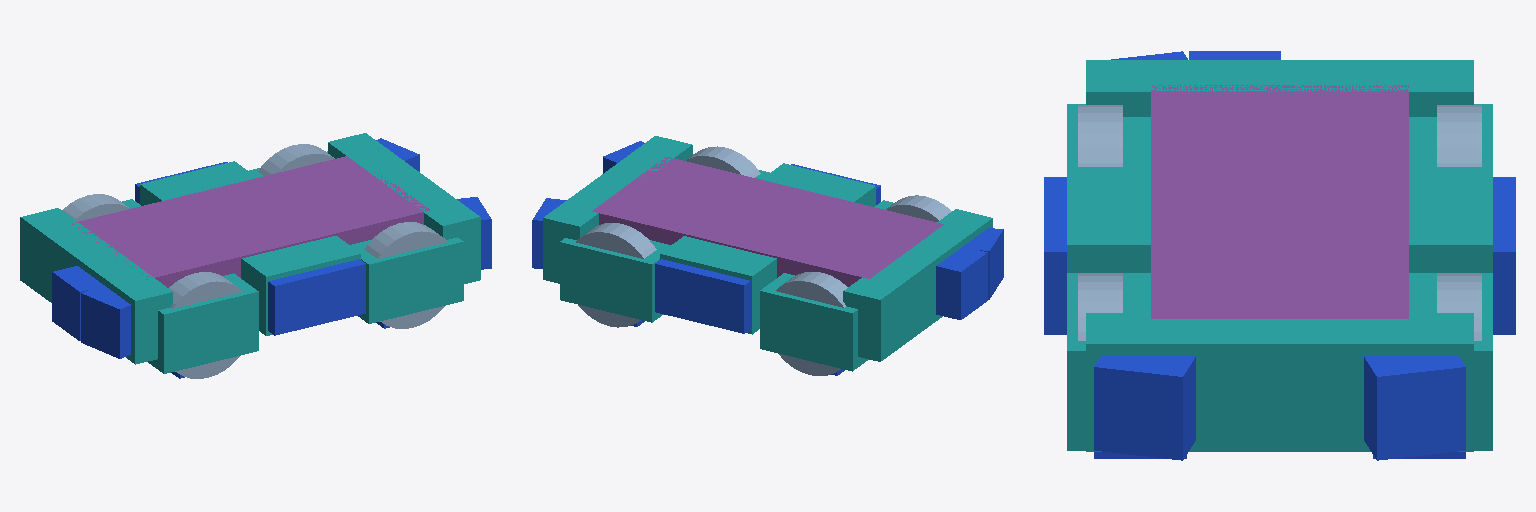
--- Render facts (derived) ---
The picture shows the robot from 3 angles, left to right: view 1: azimuth 30°, elevation 25°; view 2: azimuth 150°, elevation 25°; view 3: azimuth 270°, elevation 25°; orthographic projection.
Model LCAMP_Robot with 53 links and 52 joints (4 continuous, 48 fixed), rooted at center, posed every joint at zero.
Links seen in each view (by area): view 1: center, Sensorbox_rear, drive_rr, drive_fr, Sensorbox_front, Controller, l_Sensorbox_rear_Lidar_16, l_Controller_Lidar_16, l_Controller_LED_Light_32, jdrive_fr, Sensorbox_center, jdrive_rr (+4 smaller); view 2: center, Sensorbox_rear, drive_rl, drive_fl, Sensorbox_front, Sensorbox_center, l_Sensorbox_rear_LED_Light_32, l_Sensorbox_center_Lidar_32, l_Sensorbox_center_LED_Light_16, jdrive_fl, Controller, jdrive_rl (+4 smaller); view 3: center, Sensorbox_front, Sensorbox_rear, l_Sensorbox_front_LED_Light_16, l_Sensorbox_front_LED_Light_64, Sensorbox_center, Controller, drive_fl, drive_fr, l_Sensorbox_center_LED_Light_16, l_Controller_LED_Light_32, jdrive_rl (+8 smaller).
Boxes of the visible links, box(x1,y1,x2,y2) form: center: box(72, 156, 429, 287); Sensorbox_rear: box(20, 208, 172, 364); drive_rr: box(148, 273, 258, 373); drive_fr: box(350, 237, 463, 323); Sensorbox_front: box(328, 133, 480, 283); Controller: box(241, 236, 360, 335); l_Sensorbox_rear_Lidar_16: box(81, 285, 130, 358); l_Controller_Lidar_16: box(268, 270, 321, 335); l_Controller_LED_Light_32: box(316, 259, 365, 324); jdrive_fr: box(364, 222, 447, 328); Sensorbox_center: box(140, 161, 256, 205); jdrive_rr: box(169, 272, 242, 378); center: box(592, 157, 943, 286); Sensorbox_rear: box(843, 209, 992, 361); drive_rl: box(760, 273, 868, 371); drive_fl: box(560, 238, 670, 322); Sensorbox_front: box(543, 136, 692, 283); Sensorbox_center: box(660, 236, 776, 334); l_Sensorbox_rear_LED_Light_32: box(936, 247, 987, 319); l_Sensorbox_center_Lidar_32: box(698, 270, 750, 333); l_Sensorbox_center_LED_Light_16: box(655, 259, 705, 322); jdrive_fl: box(576, 223, 656, 327); Controller: box(761, 163, 875, 206); jdrive_rl: box(776, 272, 847, 375); center: box(1151, 85, 1408, 318); Sensorbox_front: box(1086, 313, 1473, 451); Sensorbox_rear: box(1086, 60, 1473, 116); l_Sensorbox_front_LED_Light_16: box(1364, 356, 1465, 460); l_Sensorbox_front_LED_Light_64: box(1094, 356, 1195, 460); Sensorbox_center: box(1409, 167, 1492, 272); Controller: box(1067, 167, 1150, 272); drive_fl: box(1409, 273, 1492, 450); drive_fr: box(1067, 273, 1150, 450); l_Sensorbox_center_LED_Light_16: box(1493, 213, 1515, 334); l_Controller_LED_Light_32: box(1044, 213, 1066, 334); jdrive_rl: box(1437, 105, 1481, 166).
Bounding box of the posed robot: 0.4176 × 0.2552 × 0.096 m (x, y, z).
Geometry: only primitive shapes (box / cylinder / sphere) drawn; not drawn: 33 mesh visuals (reference in a form the renderer does not follow).

robot.urdf — LCAMP_Robot:
?<?xml version="1.0" encoding="utf-8"?>
<robot name="LCAMP_Robot">
  <link name="center">
    <inertial>
      <origin rpy="0 0 0" xyz="0 0 0" />
      <mass value="50" />
      <inertia ixx="9.873333333333334E-05" ixy="0" ixz="0" iyy="0.00039206666666666664" iyz="0" izz="0.0004566666666666667" />
    </inertial>
    <visual>
      <geometry>
        <box size="0.3 0.14 0.064" />
      </geometry>
      <material name="center_material">
        <color rgba="0.6 0.4 0.7 0.5" />
      </material>
    </visual>
    <collision>
      <geometry>
        <box size="0.3 0.14 0.064" />
      </geometry>
    </collision>
  </link>
  <link name="drive_rl">
    <inertial>
      <origin rpy="0 0 0" xyz="0 0 0" />
      <mass value="5" />
      <inertia ixx="4.166666666666667E-06" ixy="0" ixz="0" iyy="5.666666666666668E-06" iyz="0" izz="6.8333333333333345E-06" />
    </inertial>
    <visual>
      <geometry>
        <box size="0.1 0.08 0.06" />
      </geometry>
      <material name="drive_rl_material">
        <color rgba="0.2 0.7 0.7 0.2" />
      </material>
    </visual>
    <collision>
      <geometry>
        <box size="0.1 0.08 0.06" />
      </geometry>
    </collision>
  </link>
  <link name="l_drive_rl_Stepper-Drive_0">
    <inertial>
      <origin rpy="0 0 0" xyz="0 0 0" />
      <mass value="1" />
      <inertia ixx="4.166666666666667E-07" ixy="0" ixz="0" iyy="4.166666666666667E-07" iyz="0" izz="4.166666666666667E-07" />
    </inertial>
    <visual>
      <geometry>
        <box size="0.05 0.05 0.05" />
      </geometry>
      <material name="l_drive_rl_Stepper-Drive_0_material">
        <color rgba="0.2 0.4 0.9 0.2" />
      </material>
    </visual>
    <collision>
      <geometry>
        <box size="0.05 0.05 0.05" />
      </geometry>
    </collision>
  </link>
  <link name="drive_rl_Stepper-Drive_0">
    <inertial>
      <origin rpy="0 0 0" xyz="0 0 0" />
      <mass value="100" />
      <inertia ixx="4.7466666666666664E-05" ixy="0" ixz="0" iyy="0.0004016333333333333" iyz="0" izz="0.00038083333333333323" />
    </inertial>
    <visual name="HolderBase">
      <origin rpy="0 0 0" xyz="0 0 0" />
      <geometry>
        <mesh filename="[local-path]\source\repos\LCAMP\Daten\DHBW CAD-Data\DriveSystem\STL-Step-Dateien\stepper_Holder_64.STL" scale="0.001 0.001 0.001" />
      </geometry>
      <material name="HolderBase_material">
        <color rgba="0.5019607843137255 0.5019607843137255 0.5019607843137255 1" />
      </material>
    </visual>
    <visual name="Stepper Motor NEMA17">
      <origin rpy="0 0 0" xyz="0 0 0" />
      <geometry>
        <box size="0.01 0.01 0.01" />
      </geometry>
      <material name="Stepper Motor NEMA17_material">
        <color rgba="0.5019607843137255 0.5019607843137255 0.5019607843137255 0.39215686274509803" />
      </material>
    </visual>
    <visual name="Motor Controller">
      <origin rpy="0 0 0" xyz="0 0 0" />
      <geometry>
        <box size="0.01 0.01 0.01" />
      </geometry>
      <material name="Motor Controller_material">
        <color rgba="0.7372549019607844 0.5019607843137255 0.5019607843137255 0.39215686274509803" />
      </material>
    </visual>
    <collision>
      <geometry>
        <cylinder length="1" radius="1" />
      </geometry>
    </collision>
  </link>
  <link name="drive_rl_Regular-Wheel">
    <inertial>
      <origin rpy="0 0 0" xyz="0 0 0" />
      <mass value="100" />
      <inertia ixx="4.7466666666666664E-05" ixy="0" ixz="0" iyy="0.0004016333333333333" iyz="0" izz="0.00038083333333333323" />
    </inertial>
    <visual name="Wheel-Hub">
      <origin rpy="0 0 0" xyz="0 0 0" />
      <geometry>
        <mesh filename="[local-path]\source\repos\LCAMP\Daten\DHBW CAD-Data\Wheels\STL-Step-Dateien\Wheel_Hub.STL" scale="0.001 0.001 0.001" />
      </geometry>
      <material name="drive_rl_Regular-Wheel_material">
        <color rgba="1 1 1 0.7" />
      </material>
    </visual>
    <visual name="rim-inner">
      <origin rpy="0 0 0" xyz="0 0 0.003" />
      <geometry>
        <mesh filename="[local-path]\source\repos\LCAMP\Daten\DHBW CAD-Data\RegularWheel\Stl-Step-Dateien\Regular_Wheel_Star_30_84.STL" scale="0.001 0.001 0.001" />
      </geometry>
      <material name="drive_rl_Regular-Wheel_material">
        <color rgba="1 1 1 0.7" />
      </material>
    </visual>
    <visual name="rim-outer">
      <origin rpy="0 0 0" xyz="0 0 0.026000000000000002" />
      <geometry>
        <mesh filename="[local-path]\source\repos\LCAMP\Daten\DHBW CAD-Data\RegularWheel\Stl-Step-Dateien\Regular_Wheel_Star_24_84.STL" scale="0.001 0.001 0.001" />
      </geometry>
      <material name="drive_rl_Regular-Wheel_material">
        <color rgba="1 1 1 0.7" />
      </material>
    </visual>
    <visual name="Wheel-Hub-Cup">
      <origin rpy="0 0 0" xyz="0 0 0.029" />
      <geometry>
        <mesh filename="[local-path]\source\repos\LCAMP\Daten\DHBW CAD-Data\Wheels\STL-Step-Dateien\Hub_Cup_8.STL" scale="0.001 0.001 0.001" />
      </geometry>
      <material name="drive_rl_Regular-Wheel_material">
        <color rgba="1 1 1 0.7" />
      </material>
    </visual>
    <visual name="Tire">
      <origin rpy="0 0 0" xyz="0 0 0.003" />
      <geometry>
        <mesh filename="[local-path]\source\repos\LCAMP\Daten\DHBW CAD-Data\RegularWheel\Stl-Step-Dateien\Tire_96.STL" scale="0.001 0.001 0.001" />
      </geometry>
      <material name="drive_rl_Regular-Wheel_material">
        <color rgba="0 0 0 1" />
      </material>
    </visual>
    <collision>
      <geometry>
        <cylinder length="1" radius="1" />
      </geometry>
    </collision>
  </link>
  <link name="jdrive_rl">
    <inertial>
      <origin rpy="0 0 0" xyz="0 0 0" />
      <mass value="50" />
      <inertia ixx="3.12E-05" ixy="0" ixz="0" iyy="3.12E-05" iyz="0" izz="57.60000000000001" />
    </inertial>
    <visual>
      <geometry>
        <cylinder length="0.024" radius="0.048" />
      </geometry>
      <material name="jdrive_rl_material">
        <color rgba="0.6 0.7 0.8 0.3" />
      </material>
    </visual>
    <collision>
      <geometry>
        <cylinder length="0.024" radius="0.048" />
      </geometry>
    </collision>
  </link>
  <link name="drive_rr">
    <inertial>
      <origin rpy="0 0 0" xyz="0 0 0" />
      <mass value="5" />
      <inertia ixx="4.166666666666667E-06" ixy="0" ixz="0" iyy="5.666666666666668E-06" iyz="0" izz="6.8333333333333345E-06" />
    </inertial>
    <visual>
      <geometry>
        <box size="0.1 0.08 0.06" />
      </geometry>
      <material name="drive_rr_material">
        <color rgba="0.2 0.7 0.7 0.2" />
      </material>
    </visual>
    <collision>
      <geometry>
        <box size="0.1 0.08 0.06" />
      </geometry>
    </collision>
  </link>
  <link name="l_drive_rr_Stepper-Drive_1">
    <inertial>
      <origin rpy="0 0 0" xyz="0 0 0" />
      <mass value="1" />
      <inertia ixx="4.166666666666667E-07" ixy="0" ixz="0" iyy="4.166666666666667E-07" iyz="0" izz="4.166666666666667E-07" />
    </inertial>
    <visual>
      <geometry>
        <box size="0.05 0.05 0.05" />
      </geometry>
      <material name="l_drive_rr_Stepper-Drive_1_material">
        <color rgba="0.2 0.4 0.9 0.2" />
      </material>
    </visual>
    <collision>
      <geometry>
        <box size="0.05 0.05 0.05" />
      </geometry>
    </collision>
  </link>
  <link name="drive_rr_Stepper-Drive_1">
    <inertial>
      <origin rpy="0 0 0" xyz="0 0 0" />
      <mass value="100" />
      <inertia ixx="4.7466666666666664E-05" ixy="0" ixz="0" iyy="0.0004016333333333333" iyz="0" izz="0.00038083333333333323" />
    </inertial>
    <visual name="HolderBase">
      <origin rpy="0 0 0" xyz="0 0 0" />
      <geometry>
        <mesh filename="[local-path]\source\repos\LCAMP\Daten\DHBW CAD-Data\DriveSystem\STL-Step-Dateien\stepper_Holder_64.STL" scale="0.001 0.001 0.001" />
      </geometry>
      <material name="HolderBase_material">
        <color rgba="0.5019607843137255 0.5019607843137255 0.5019607843137255 1" />
      </material>
    </visual>
    <visual name="Stepper Motor NEMA17">
      <origin rpy="0 0 0" xyz="0 0 0" />
      <geometry>
        <box size="0.01 0.01 0.01" />
      </geometry>
      <material name="Stepper Motor NEMA17_material">
        <color rgba="0.5019607843137255 0.5019607843137255 0.5019607843137255 0.39215686274509803" />
      </material>
    </visual>
    <visual name="Motor Controller">
      <origin rpy="0 0 0" xyz="0 0 0" />
      <geometry>
        <box size="0.01 0.01 0.01" />
      </geometry>
      <material name="Motor Controller_material">
        <color rgba="0.7372549019607844 0.5019607843137255 0.5019607843137255 0.39215686274509803" />
      </material>
    </visual>
    <collision>
      <geometry>
        <cylinder length="1" radius="1" />
      </geometry>
    </collision>
  </link>
  <link name="drive_rr_Regular-Wheel">
    <inertial>
      <origin rpy="0 0 0" xyz="0 0 0" />
      <mass value="100" />
      <inertia ixx="4.7466666666666664E-05" ixy="0" ixz="0" iyy="0.0004016333333333333" iyz="0" izz="0.00038083333333333323" />
    </inertial>
    <visual name="Wheel-Hub">
      <origin rpy="0 0 0" xyz="0 0 0" />
      <geometry>
        <mesh filename="[local-path]\source\repos\LCAMP\Daten\DHBW CAD-Data\Wheels\STL-Step-Dateien\Wheel_Hub.STL" scale="0.001 0.001 0.001" />
      </geometry>
      <material name="drive_rr_Regular-Wheel_material">
        <color rgba="1 1 1 0.7" />
      </material>
    </visual>
    <visual name="rim-inner">
      <origin rpy="0 0 0" xyz="0 0 0.003" />
      <geometry>
        <mesh filename="[local-path]\source\repos\LCAMP\Daten\DHBW CAD-Data\RegularWheel\Stl-Step-Dateien\Regular_Wheel_Star_30_84.STL" scale="0.001 0.001 0.001" />
      </geometry>
      <material name="drive_rr_Regular-Wheel_material">
        <color rgba="1 1 1 0.7" />
      </material>
    </visual>
    <visual name="rim-outer">
      <origin rpy="0 0 0" xyz="0 0 0.026000000000000002" />
      <geometry>
        <mesh filename="[local-path]\source\repos\LCAMP\Daten\DHBW CAD-Data\RegularWheel\Stl-Step-Dateien\Regular_Wheel_Star_24_84.STL" scale="0.001 0.001 0.001" />
      </geometry>
      <material name="drive_rr_Regular-Wheel_material">
        <color rgba="1 1 1 0.7" />
      </material>
    </visual>
    <visual name="Wheel-Hub-Cup">
      <origin rpy="0 0 0" xyz="0 0 0.029" />
      <geometry>
        <mesh filename="[local-path]\source\repos\LCAMP\Daten\DHBW CAD-Data\Wheels\STL-Step-Dateien\Hub_Cup_8.STL" scale="0.001 0.001 0.001" />
      </geometry>
      <material name="drive_rr_Regular-Wheel_material">
        <color rgba="1 1 1 0.7" />
      </material>
    </visual>
    <visual name="Tire">
      <origin rpy="0 0 0" xyz="0 0 0.003" />
      <geometry>
        <mesh filename="[local-path]\source\repos\LCAMP\Daten\DHBW CAD-Data\RegularWheel\Stl-Step-Dateien\Tire_96.STL" scale="0.001 0.001 0.001" />
      </geometry>
      <material name="drive_rr_Regular-Wheel_material">
        <color rgba="0 0 0 1" />
      </material>
    </visual>
    <collision>
      <geometry>
        <cylinder length="1" radius="1" />
      </geometry>
    </collision>
  </link>
  <link name="jdrive_rr">
    <inertial>
      <origin rpy="0 0 0" xyz="0 0 0" />
      <mass value="50" />
      <inertia ixx="3.12E-05" ixy="0" ixz="0" iyy="3.12E-05" iyz="0" izz="57.60000000000001" />
    </inertial>
    <visual>
      <geometry>
        <cylinder length="0.024" radius="0.048" />
      </geometry>
      <material name="jdrive_rr_material">
        <color rgba="0.6 0.7 0.8 0.3" />
      </material>
    </visual>
    <collision>
      <geometry>
        <cylinder length="0.024" radius="0.048" />
      </geometry>
    </collision>
  </link>
  <link name="drive_fl">
    <inertial>
      <origin rpy="0 0 0" xyz="0 0 0" />
      <mass value="5" />
      <inertia ixx="4.166666666666667E-06" ixy="0" ixz="0" iyy="5.666666666666668E-06" iyz="0" izz="6.8333333333333345E-06" />
    </inertial>
    <visual>
      <geometry>
        <box size="0.1 0.08 0.06" />
      </geometry>
      <material name="drive_fl_material">
        <color rgba="0.2 0.7 0.7 0.2" />
      </material>
    </visual>
    <collision>
      <geometry>
        <box size="0.1 0.08 0.06" />
      </geometry>
    </collision>
  </link>
  <link name="l_drive_fl_Stepper-Drive_2">
    <inertial>
      <origin rpy="0 0 0" xyz="0 0 0" />
      <mass value="1" />
      <inertia ixx="4.166666666666667E-07" ixy="0" ixz="0" iyy="4.166666666666667E-07" iyz="0" izz="4.166666666666667E-07" />
    </inertial>
    <visual>
      <geometry>
        <box size="0.05 0.05 0.05" />
      </geometry>
      <material name="l_drive_fl_Stepper-Drive_2_material">
        <color rgba="0.2 0.4 0.9 0.2" />
      </material>
    </visual>
    <collision>
      <geometry>
        <box size="0.05 0.05 0.05" />
      </geometry>
    </collision>
  </link>
  <link name="drive_fl_Stepper-Drive_2">
    <inertial>
      <origin rpy="0 0 0" xyz="0 0 0" />
      <mass value="100" />
      <inertia ixx="4.7466666666666664E-05" ixy="0" ixz="0" iyy="0.0004016333333333333" iyz="0" izz="0.00038083333333333323" />
    </inertial>
    <visual name="HolderBase">
      <origin rpy="0 0 0" xyz="0 0 0" />
      <geometry>
        <mesh filename="[local-path]\source\repos\LCAMP\Daten\DHBW CAD-Data\DriveSystem\STL-Step-Dateien\stepper_Holder_64.STL" scale="0.001 0.001 0.001" />
      </geometry>
      <material name="HolderBase_material">
        <color rgba="0.5019607843137255 0.5019607843137255 0.5019607843137255 1" />
      </material>
    </visual>
    <visual name="Stepper Motor NEMA17">
      <origin rpy="0 0 0" xyz="0 0 0" />
      <geometry>
        <box size="0.01 0.01 0.01" />
      </geometry>
      <material name="Stepper Motor NEMA17_material">
        <color rgba="0.5019607843137255 0.5019607843137255 0.5019607843137255 0.39215686274509803" />
      </material>
    </visual>
    <visual name="Motor Controller">
      <origin rpy="0 0 0" xyz="0 0 0" />
      <geometry>
        <box size="0.01 0.01 0.01" />
      </geometry>
      <material name="Motor Controller_material">
        <color rgba="0.7372549019607844 0.5019607843137255 0.5019607843137255 0.39215686274509803" />
      </material>
    </visual>
    <collision>
      <geometry>
        <cylinder length="1" radius="1" />
      </geometry>
    </collision>
  </link>
  <link name="drive_fl_Regular-Wheel">
    <inertial>
      <origin rpy="0 0 0" xyz="0 0 0" />
      <mass value="100" />
      <inertia ixx="4.7466666666666664E-05" ixy="0" ixz="0" iyy="0.0004016333333333333" iyz="0" izz="0.00038083333333333323" />
    </inertial>
    <visual name="Wheel-Hub">
      <origin rpy="0 0 0" xyz="0 0 0" />
      <geometry>
        <mesh filename="[local-path]\source\repos\LCAMP\Daten\DHBW CAD-Data\Wheels\STL-Step-Dateien\Wheel_Hub.STL" scale="0.001 0.001 0.001" />
      </geometry>
      <material name="drive_fl_Regular-Wheel_material">
        <color rgba="1 1 1 0.7" />
      </material>
    </visual>
    <visual name="rim-inner">
      <origin rpy="0 0 0" xyz="0 0 0.003" />
      <geometry>
        <mesh filename="[local-path]\source\repos\LCAMP\Daten\DHBW CAD-Data\RegularWheel\Stl-Step-Dateien\Regular_Wheel_Star_30_84.STL" scale="0.001 0.001 0.001" />
      </geometry>
      <material name="drive_fl_Regular-Wheel_material">
        <color rgba="1 1 1 0.7" />
      </material>
    </visual>
    <visual name="rim-outer">
      <origin rpy="0 0 0" xyz="0 0 0.026000000000000002" />
      <geometry>
        <mesh filename="[local-path]\source\repos\LCAMP\Daten\DHBW CAD-Data\RegularWheel\Stl-Step-Dateien\Regular_Wheel_Star_24_84.STL" scale="0.001 0.001 0.001" />
      </geometry>
      <material name="drive_fl_Regular-Wheel_material">
        <color rgba="1 1 1 0.7" />
      </material>
    </visual>
    <visual name="Wheel-Hub-Cup">
      <origin rpy="0 0 0" xyz="0 0 0.029" />
      <geometry>
        <mesh filename="[local-path]\source\repos\LCAMP\Daten\DHBW CAD-Data\Wheels\STL-Step-Dateien\Hub_Cup_8.STL" scale="0.001 0.001 0.001" />
      </geometry>
      <material name="drive_fl_Regular-Wheel_material">
        <color rgba="1 1 1 0.7" />
      </material>
    </visual>
    <visual name="Tire">
      <origin rpy="0 0 0" xyz="0 0 0.003" />
      <geometry>
        <mesh filename="[local-path]\source\repos\LCAMP\Daten\DHBW CAD-Data\RegularWheel\Stl-Step-Dateien\Tire_96.STL" scale="0.001 0.001 0.001" />
      </geometry>
      <material name="drive_fl_Regular-Wheel_material">
        <color rgba="0 0 0 1" />
      </material>
    </visual>
    <collision>
      <geometry>
        <cylinder length="1" radius="1" />
      </geometry>
    </collision>
  </link>
  <link name="jdrive_fl">
    <inertial>
      <origin rpy="0 0 0" xyz="0 0 0" />
      <mass value="50" />
      <inertia ixx="3.12E-05" ixy="0" ixz="0" iyy="3.12E-05" iyz="0" izz="57.60000000000001" />
    </inertial>
    <visual>
      <geometry>
        <cylinder length="0.024" radius="0.048" />
      </geometry>
      <material name="jdrive_fl_material">
        <color rgba="0.6 0.7 0.8 0.3" />
      </material>
    </visual>
    <collision>
      <geometry>
        <cylinder length="0.024" radius="0.048" />
      </geometry>
    </collision>
  </link>
  <link name="drive_fr">
    <inertial>
      <origin rpy="0 0 0" xyz="0 0 0" />
      <mass value="5" />
      <inertia ixx="4.166666666666667E-06" ixy="0" ixz="0" iyy="5.666666666666668E-06" iyz="0" izz="6.8333333333333345E-06" />
    </inertial>
    <visual>
      <geometry>
        <box size="0.1 0.08 0.06" />
      </geometry>
      <material name="drive_fr_material">
        <color rgba="0.2 0.7 0.7 0.2" />
      </material>
    </visual>
    <collision>
      <geometry>
        <box size="0.1 0.08 0.06" />
      </geometry>
    </collision>
  </link>
  <link name="l_drive_fr_Stepper-Drive_3">
    <inertial>
      <origin rpy="0 0 0" xyz="0 0 0" />
      <mass value="1" />
      <inertia ixx="4.166666666666667E-07" ixy="0" ixz="0" iyy="4.166666666666667E-07" iyz="0" izz="4.166666666666667E-07" />
    </inertial>
    <visual>
      <geometry>
        <box size="0.05 0.05 0.05" />
      </geometry>
      <material name="l_drive_fr_Stepper-Drive_3_material">
        <color rgba="0.2 0.4 0.9 0.2" />
      </material>
    </visual>
    <collision>
      <geometry>
        <box size="0.05 0.05 0.05" />
      </geometry>
    </collision>
  </link>
  <link name="drive_fr_Stepper-Drive_3">
    <inertial>
      <origin rpy="0 0 0" xyz="0 0 0" />
      <mass value="100" />
      <inertia ixx="4.7466666666666664E-05" ixy="0" ixz="0" iyy="0.0004016333333333333" iyz="0" izz="0.00038083333333333323" />
    </inertial>
    <visual name="HolderBase">
      <origin rpy="0 0 0" xyz="0 0 0" />
      <geometry>
        <mesh filename="[local-path]\source\repos\LCAMP\Daten\DHBW CAD-Data\DriveSystem\STL-Step-Dateien\stepper_Holder_64.STL" scale="0.001 0.001 0.001" />
      </geometry>
      <material name="HolderBase_material">
        <color rgba="0.5019607843137255 0.5019607843137255 0.5019607843137255 1" />
      </material>
    </visual>
    <visual name="Stepper Motor NEMA17">
      <origin rpy="0 0 0" xyz="0 0 0" />
      <geometry>
        <box size="0.01 0.01 0.01" />
      </geometry>
      <material name="Stepper Motor NEMA17_material">
        <color rgba="0.5019607843137255 0.5019607843137255 0.5019607843137255 0.39215686274509803" />
      </material>
    </visual>
    <visual name="Motor Controller">
      <origin rpy="0 0 0" xyz="0 0 0" />
      <geometry>
        <box size="0.01 0.01 0.01" />
      </geometry>
      <material name="Motor Controller_material">
        <color rgba="0.7372549019607844 0.5019607843137255 0.5019607843137255 0.39215686274509803" />
      </material>
    </visual>
    <collision>
      <geometry>
        <cylinder length="1" radius="1" />
      </geometry>
    </collision>
  </link>
  <link name="drive_fr_Regular-Wheel">
    <inertial>
      <origin rpy="0 0 0" xyz="0 0 0" />
      <mass value="100" />
      <inertia ixx="4.7466666666666664E-05" ixy="0" ixz="0" iyy="0.0004016333333333333" iyz="0" izz="0.00038083333333333323" />
    </inertial>
    <visual name="Wheel-Hub">
      <origin rpy="0 0 0" xyz="0 0 0" />
      <geometry>
        <mesh filename="[local-path]\source\repos\LCAMP\Daten\DHBW CAD-Data\Wheels\STL-Step-Dateien\Wheel_Hub.STL" scale="0.001 0.001 0.001" />
      </geometry>
      <material name="drive_fr_Regular-Wheel_material">
        <color rgba="1 1 1 0.7" />
      </material>
    </visual>
    <visual name="rim-inner">
      <origin rpy="0 0 0" xyz="0 0 0.003" />
      <geometry>
        <mesh filename="[local-path]\source\repos\LCAMP\Daten\DHBW CAD-Data\RegularWheel\Stl-Step-Dateien\Regular_Wheel_Star_30_84.STL" scale="0.001 0.001 0.001" />
      </geometry>
      <material name="drive_fr_Regular-Wheel_material">
        <color rgba="1 1 1 0.7" />
      </material>
    </visual>
    <visual name="rim-outer">
      <origin rpy="0 0 0" xyz="0 0 0.026000000000000002" />
      <geometry>
        <mesh filename="[local-path]\source\repos\LCAMP\Daten\DHBW CAD-Data\RegularWheel\Stl-Step-Dateien\Regular_Wheel_Star_24_84.STL" scale="0.001 0.001 0.001" />
      </geometry>
      <material name="drive_fr_Regular-Wheel_material">
        <color rgba="1 1 1 0.7" />
      </material>
    </visual>
    <visual name="Wheel-Hub-Cup">
      <origin rpy="0 0 0" xyz="0 0 0.029" />
      <geometry>
        <mesh filename="[local-path]\source\repos\LCAMP\Daten\DHBW CAD-Data\Wheels\STL-Step-Dateien\Hub_Cup_8.STL" scale="0.001 0.001 0.001" />
      </geometry>
      <material name="drive_fr_Regular-Wheel_material">
        <color rgba="1 1 1 0.7" />
      </material>
    </visual>
    <visual name="Tire">
      <origin rpy="0 0 0" xyz="0 0 0.003" />
      <geometry>
        <mesh filename="[local-path]\source\repos\LCAMP\Daten\DHBW CAD-Data\RegularWheel\Stl-Step-Dateien\Tire_96.STL" scale="0.001 0.001 0.001" />
      </geometry>
      <material name="drive_fr_Regular-Wheel_material">
        <color rgba="0 0 0 1" />
      </material>
    </visual>
    <collision>
      <geometry>
        <cylinder length="1" radius="1" />
      </geometry>
    </collision>
  </link>
  <link name="jdrive_fr">
    <inertial>
      <origin rpy="0 0 0" xyz="0 0 0" />
      <mass value="50" />
      <inertia ixx="3.12E-05" ixy="0" ixz="0" iyy="3.12E-05" iyz="0" izz="57.60000000000001" />
    </inertial>
    <visual>
      <geometry>
        <cylinder length="0.024" radius="0.048" />
      </geometry>
      <material name="jdrive_fr_material">
        <color rgba="0.6 0.7 0.8 0.3" />
      </material>
    </visual>
    <collision>
      <geometry>
        <cylinder length="0.024" radius="0.048" />
      </geometry>
    </collision>
  </link>
  <link name="Sensorbox_front">
    <inertial>
      <origin rpy="0 0 0" xyz="0 0 0" />
      <mass value="5" />
      <inertia ixx="1.9041666666666664E-05" ixy="0" ixz="0" iyy="2.0081666666666668E-05" iyz="0" izz="2.373333333333333E-06" />
    </inertial>
    <visual>
      <geometry>
        <box size="0.064 0.04 0.21" />
      </geometry>
      <material name="Sensorbox_front_material">
        <color rgba="0.2 0.7 0.7 0.2" />
      </material>
    </visual>
    <collision>
      <geometry>
        <box size="0.064 0.04 0.21" />
      </geometry>
    </collision>
  </link>
  <link name="Sensorbox_front_sbFront">
    <inertial>
      <origin rpy="0 0 0" xyz="0 0 0" />
      <mass value="100" />
      <inertia ixx="4.7466666666666664E-05" ixy="0" ixz="0" iyy="0.0004016333333333333" iyz="0" izz="0.00038083333333333323" />
    </inertial>
    <visual>
      <geometry>
        <mesh filename="[local-path]\source\repos\LCAMP\Daten\DHBW CAD-Data\SensorSystems\STL-Step-Files\Sensorbox curved_15.STL" scale="0.001 0.001 0.001" />
      </geometry>
      <material name="Sensorbox_front_sbFront_material">
        <color rgba="0.5019607843137255 0.5019607843137255 0.5019607843137255 1" />
      </material>
    </visual>
    <collision>
      <geometry>
        <mesh filename="[local-path]\source\repos\LCAMP\Daten\DHBW CAD-Data\SensorSystems\STL-Step-Files\Sensorbox curved_15.STL" scale="0.001 0.001 0.001" />
      </geometry>
    </collision>
  </link>
  <link name="Sensorbox_front_Connetion_Pins">
    <inertial>
      <origin rpy="0 0 0" xyz="0 0 0" />
      <mass value="1" />
      <inertia ixx="3.4166666666666667E-09" ixy="0" ixz="0" iyy="9.666666666666667E-09" iyz="0" izz="1.0416666666666667E-08" />
    </inertial>
    <visual>
      <geometry>
        <box size="0.01 0.005 0.004" />
      </geometry>
      <material name="Sensorbox_front_Connetion_Pins_material">
        <color rgba="0.5019607843137255 0.5019607843137255 0.5019607843137255 1" />
      </material>
    </visual>
    <collision>
      <geometry>
        <box size="0.01 0.005 0.004" />
      </geometry>
    </collision>
  </link>
  <link name="l_Sensorbox_front_LED_Light_16">
    <inertial>
      <origin rpy="0 0 0" xyz="0 0 0" />
      <mass value="1" />
      <inertia ixx="4.166666666666667E-07" ixy="0" ixz="0" iyy="4.166666666666667E-07" iyz="0" izz="4.166666666666667E-07" />
    </inertial>
    <visual>
      <geometry>
        <box size="0.05 0.05 0.05" />
      </geometry>
      <material name="l_Sensorbox_front_LED_Light_16_material">
        <color rgba="0.2 0.4 0.9 0.2" />
      </material>
    </visual>
    <collision>
      <geometry>
        <box size="0.05 0.05 0.05" />
      </geometry>
    </collision>
  </link>
  <link name="Sensorbox_front_LED_Light_16">
    <inertial>
      <origin rpy="0 0 0" xyz="0 0 0" />
      <mass value="100" />
      <inertia ixx="4.7466666666666664E-05" ixy="0" ixz="0" iyy="0.0004016333333333333" iyz="0" izz="0.00038083333333333323" />
    </inertial>
    <visual name="Base">
      <origin rpy="0 0 0" xyz="0 0 0" />
      <geometry>
        <mesh filename="[local-path]\source\repos\LCAMP\Daten\DHBW CAD-Data\SensorSystems\STL-Step-Files\SensorBase.STL" scale="0.001 0.001 0.001" />
      </geometry>
      <material name="Base_material">
        <color rgba="0.5019607843137255 0.5019607843137255 0.5019607843137255 1" />
      </material>
    </visual>
    <visual name="sensor PCB">
      <origin rpy="0 0 0" xyz="0 0 0" />
      <geometry>
        <box size="0.01 0.01 0.01" />
      </geometry>
      <material name="sensor PCB_material">
        <color rgba="0.5019607843137255 0.5019607843137255 0.5019607843137255 1" />
      </material>
    </visual>
    <visual name="Top">
      <origin rpy="0 0 0" xyz="0 0 0" />
      <geometry>
        <box size="0.01 0.01 0.01" />
      </geometry>
      <material name="Top_material">
        <color rgba="0.5019607843137255 0.5019607843137255 0.5019607843137255 1" />
      </material>
    </visual>
    <collision>
      <geometry>
        <cylinder length="1" radius="1" />
      </geometry>
    </collision>
  </link>
  <link name="l_Sensorbox_front_LED_Light_64">
    <inertial>
      <origin rpy="0 0 0" xyz="0 0 0" />
      <mass value="1" />
      <inertia ixx="4.166666666666667E-07" ixy="0" ixz="0" iyy="4.166666666666667E-07" iyz="0" izz="4.166666666666667E-07" />
    </inertial>
    <visual>
      <geometry>
        <box size="0.05 0.05 0.05" />
      </geometry>
      <material name="l_Sensorbox_front_LED_Light_64_material">
        <color rgba="0.2 0.4 0.9 0.2" />
      </material>
    </visual>
    <collision>
      <geometry>
        <box size="0.05 0.05 0.05" />
      </geometry>
    </collision>
  </link>
  <link name="Sensorbox_front_LED_Light_64">
    <inertial>
      <origin rpy="0 0 0" xyz="0 0 0" />
      <mass value="100" />
      <inertia ixx="4.7466666666666664E-05" ixy="0" ixz="0" iyy="0.0004016333333333333" iyz="0" izz="0.00038083333333333323" />
    </inertial>
    <visual name="Base">
      <origin rpy="0 0 0" xyz="0 0 0" />
      <geometry>
        <mesh filename="[local-path]\source\repos\LCAMP\Daten\DHBW CAD-Data\SensorSystems\STL-Step-Files\SensorBase.STL" scale="0.001 0.001 0.001" />
      </geometry>
      <material name="Base_material">
        <color rgba="0.5019607843137255 0.5019607843137255 0.5019607843137255 1" />
      </material>
    </visual>
    <visual name="sensor PCB">
      <origin rpy="0 0 0" xyz="0 0 0" />
      <geometry>
        <box size="0.01 0.01 0.01" />
      </geometry>
      <material name="sensor PCB_material">
        <color rgba="0.5019607843137255 0.5019607843137255 0.5019607843137255 1" />
      </material>
    </visual>
    <visual name="Top">
      <origin rpy="0 0 0" xyz="0 0 0" />
      <geometry>
        <box size="0.01 0.01 0.01" />
      </geometry>
      <material name="Top_material">
        <color rgba="0.5019607843137255 0.5019607843137255 0.5019607843137255 1" />
      </material>
    </visual>
    <collision>
      <geometry>
        <cylinder length="1" radius="1" />
      </geometry>
    </collision>
  </link>
  <link name="Sensorbox_rear">
    <inertial>
      <origin rpy="0 0 0" xyz="0 0 0" />
      <mass value="5" />
      <inertia ixx="1.9041666666666664E-05" ixy="0" ixz="0" iyy="2.0081666666666668E-05" iyz="0" izz="2.373333333333333E-06" />
    </inertial>
    <visual>
      <geometry>
        <box size="0.064 0.04 0.21" />
      </geometry>
      <material name="Sensorbox_rear_material">
        <color rgba="0.2 0.7 0.7 0.2" />
      </material>
    </visual>
    <collision>
      <geometry>
        <box size="0.064 0.04 0.21" />
      </geometry>
    </collision>
  </link>
  <link name="Sensorbox_rear_sbRear">
    <inertial>
      <origin rpy="0 0 0" xyz="0 0 0" />
      <mass value="100" />
      <inertia ixx="4.7466666666666664E-05" ixy="0" ixz="0" iyy="0.0004016333333333333" iyz="0" izz="0.00038083333333333323" />
    </inertial>
    <visual>
      <geometry>
        <mesh filename="[local-path]\source\repos\LCAMP\Daten\DHBW CAD-Data\SensorSystems\STL-Step-Files\Sensorbox curved_15.STL" scale="0.001 0.001 0.001" />
      </geometry>
      <material name="Sensorbox_rear_sbRear_material">
        <color rgba="0.5019607843137255 0.5019607843137255 0.5019607843137255 1" />
      </material>
    </visual>
    <collision>
      <geometry>
        <mesh filename="[local-path]\source\repos\LCAMP\Daten\DHBW CAD-Data\SensorSystems\STL-Step-Files\Sensorbox curved_15.STL" scale="0.001 0.001 0.001" />
      </geometry>
    </collision>
  </link>
  <link name="Sensorbox_rear_Connetion_Pinns">
    <inertial>
      <origin rpy="0 0 0" xyz="0 0 0" />
      <mass value="1" />
      <inertia ixx="3.4166666666666667E-09" ixy="0" ixz="0" iyy="9.666666666666667E-09" iyz="0" izz="1.0416666666666667E-08" />
    </inertial>
    <visual>
      <geometry>
        <box size="0.01 0.005 0.004" />
      </geometry>
      <material name="Sensorbox_rear_Connetion_Pinns_material">
        <color rgba="0.5019607843137255 0.5019607843137255 0.5019607843137255 1" />
      </material>
    </visual>
    <collision>
      <geometry>
        <box size="0.01 0.005 0.004" />
      </geometry>
    </collision>
  </link>
  <link name="l_Sensorbox_rear_Lidar_16">
    <inertial>
      <origin rpy="0 0 0" xyz="0 0 0" />
      <mass value="1" />
      <inertia ixx="4.166666666666667E-07" ixy="0" ixz="0" iyy="4.166666666666667E-07" iyz="0" izz="4.166666666666667E-07" />
    </inertial>
    <visual>
      <geometry>
        <box size="0.05 0.05 0.05" />
      </geometry>
      <material name="l_Sensorbox_rear_Lidar_16_material">
        <color rgba="0.2 0.4 0.9 0.2" />
      </material>
    </visual>
    <collision>
      <geometry>
        <box size="0.05 0.05 0.05" />
      </geometry>
    </collision>
  </link>
  <link name="Sensorbox_rear_Lidar_16">
    <inertial>
      <origin rpy="0 0 0" xyz="0 0 0" />
      <mass value="100" />
      <inertia ixx="4.7466666666666664E-05" ixy="0" ixz="0" iyy="0.0004016333333333333" iyz="0" izz="0.00038083333333333323" />
    </inertial>
    <collision>
      <geometry>
        <cylinder length="1" radius="1" />
      </geometry>
    </collision>
  </link>
  <link name="l_Sensorbox_rear_LED_Light_32">
    <inertial>
      <origin rpy="0 0 0" xyz="0 0 0" />
      <mass value="1" />
      <inertia ixx="4.166666666666667E-07" ixy="0" ixz="0" iyy="4.166666666666667E-07" iyz="0" izz="4.166666666666667E-07" />
    </inertial>
    <visual>
      <geometry>
        <box size="0.05 0.05 0.05" />
      </geometry>
      <material name="l_Sensorbox_rear_LED_Light_32_material">
        <color rgba="0.2 0.4 0.9 0.2" />
      </material>
    </visual>
    <collision>
      <geometry>
        <box size="0.05 0.05 0.05" />
      </geometry>
    </collision>
  </link>
  <link name="Sensorbox_rear_LED_Light_32">
    <inertial>
      <origin rpy="0 0 0" xyz="0 0 0" />
      <mass value="100" />
      <inertia ixx="4.7466666666666664E-05" ixy="0" ixz="0" iyy="0.0004016333333333333" iyz="0" izz="0.00038083333333333323" />
    </inertial>
    <visual name="Base">
      <origin rpy="0 0 0" xyz="0 0 0" />
      <geometry>
        <mesh filename="[local-path]\source\repos\LCAMP\Daten\DHBW CAD-Data\SensorSystems\STL-Step-Files\SensorBase.STL" scale="0.001 0.001 0.001" />
      </geometry>
      <material name="Base_material">
        <color rgba="0.5019607843137255 0.5019607843137255 0.5019607843137255 1" />
      </material>
    </visual>
    <visual name="sensor PCB">
      <origin rpy="0 0 0" xyz="0 0 0" />
      <geometry>
        <box size="0.01 0.01 0.01" />
      </geometry>
      <material name="sensor PCB_material">
        <color rgba="0.5019607843137255 0.5019607843137255 0.5019607843137255 1" />
      </material>
    </visual>
    <visual name="Top">
      <origin rpy="0 0 0" xyz="0 0 0" />
      <geometry>
        <box size="0.01 0.01 0.01" />
      </geometry>
      <material name="Top_material">
        <color rgba="0.5019607843137255 0.5019607843137255 0.5019607843137255 1" />
      </material>
    </visual>
    <collision>
      <geometry>
        <cylinder length="1" radius="1" />
      </geometry>
    </collision>
  </link>
  <link name="Sensorbox_center">
    <inertial>
      <origin rpy="0 0 0" xyz="0 0 0" />
      <mass value="5" />
      <inertia ixx="4.166666666666667E-06" ixy="0" ixz="0" iyy="5.666666666666668E-06" iyz="0" izz="6.8333333333333345E-06" />
    </inertial>
    <visual>
      <geometry>
        <box size="0.1 0.08 0.06" />
      </geometry>
      <material name="Sensorbox_center_material">
        <color rgba="0.2 0.7 0.7 0.2" />
      </material>
    </visual>
    <collision>
      <geometry>
        <box size="0.1 0.08 0.06" />
      </geometry>
    </collision>
  </link>
  <link name="Sensorbox_center_sbCenter">
    <inertial>
      <origin rpy="0 0 0" xyz="0 0 0" />
      <mass value="100" />
      <inertia ixx="4.7466666666666664E-05" ixy="0" ixz="0" iyy="0.0004016333333333333" iyz="0" izz="0.00038083333333333323" />
    </inertial>
    <visual>
      <geometry>
        <mesh filename="[local-path]\source\repos\LCAMP\Daten\DHBW CAD-Data\SensorSystems\STL-Step-Files\Sensorbox_small_64.STL" scale="0.001 0.001 0.001" />
      </geometry>
      <material name="Sensorbox_center_sbCenter_material">
        <color rgba="0.5019607843137255 0.5019607843137255 0.5019607843137255 1" />
      </material>
    </visual>
    <collision>
      <geometry>
        <mesh filename="[local-path]\source\repos\LCAMP\Daten\DHBW CAD-Data\SensorSystems\STL-Step-Files\Sensorbox_small_64.STL" scale="0.001 0.001 0.001" />
      </geometry>
    </collision>
  </link>
  <link name="Sensorbox_center_Connetion_Pins">
    <inertial>
      <origin rpy="0 0 0" xyz="0 0 0" />
      <mass value="1" />
      <inertia ixx="3.4166666666666667E-09" ixy="0" ixz="0" iyy="9.666666666666667E-09" iyz="0" izz="1.0416666666666667E-08" />
    </inertial>
    <visual>
      <geometry>
        <box size="0.01 0.005 0.004" />
      </geometry>
      <material name="Sensorbox_center_Connetion_Pins_material">
        <color rgba="0.5019607843137255 0.5019607843137255 0.5019607843137255 1" />
      </material>
    </visual>
    <collision>
      <geometry>
        <box size="0.01 0.005 0.004" />
      </geometry>
    </collision>
  </link>
  <link name="l_Sensorbox_center_LED_Light_16">
    <inertial>
      <origin rpy="0 0 0" xyz="0 0 0" />
      <mass value="1" />
      <inertia ixx="4.166666666666667E-07" ixy="0" ixz="0" iyy="4.166666666666667E-07" iyz="0" izz="4.166666666666667E-07" />
    </inertial>
    <visual>
      <geometry>
        <box size="0.05 0.05 0.05" />
      </geometry>
      <material name="l_Sensorbox_center_LED_Light_16_material">
        <color rgba="0.2 0.4 0.9 0.2" />
      </material>
    </visual>
    <collision>
      <geometry>
        <box size="0.05 0.05 0.05" />
      </geometry>
    </collision>
  </link>
  <link name="Sensorbox_center_LED_Light_16">
    <inertial>
      <origin rpy="0 0 0" xyz="0 0 0" />
      <mass value="100" />
      <inertia ixx="4.7466666666666664E-05" ixy="0" ixz="0" iyy="0.0004016333333333333" iyz="0" izz="0.00038083333333333323" />
    </inertial>
    <visual name="Base">
      <origin rpy="0 0 0" xyz="0 0 0" />
      <geometry>
        <mesh filename="[local-path]\source\repos\LCAMP\Daten\DHBW CAD-Data\SensorSystems\STL-Step-Files\SensorBase.STL" scale="0.001 0.001 0.001" />
      </geometry>
      <material name="Base_material">
        <color rgba="0.5019607843137255 0.5019607843137255 0.5019607843137255 1" />
      </material>
    </visual>
    <visual name="sensor PCB">
      <origin rpy="0 0 0" xyz="0 0 0" />
      <geometry>
        <box size="0.01 0.01 0.01" />
      </geometry>
      <material name="sensor PCB_material">
        <color rgba="0.5019607843137255 0.5019607843137255 0.5019607843137255 1" />
      </material>
    </visual>
    <visual name="Top">
      <origin rpy="0 0 0" xyz="0 0 0" />
      <geometry>
        <box size="0.01 0.01 0.01" />
      </geometry>
      <material name="Top_material">
        <color rgba="0.5019607843137255 0.5019607843137255 0.5019607843137255 1" />
      </material>
    </visual>
    <collision>
      <geometry>
        <cylinder length="1" radius="1" />
      </geometry>
    </collision>
  </link>
  <link name="l_Sensorbox_center_Lidar_32">
    <inertial>
      <origin rpy="0 0 0" xyz="0 0 0" />
      <mass value="1" />
      <inertia ixx="4.166666666666667E-07" ixy="0" ixz="0" iyy="4.166666666666667E-07" iyz="0" izz="4.166666666666667E-07" />
    </inertial>
    <visual>
      <geometry>
        <box size="0.05 0.05 0.05" />
      </geometry>
      <material name="l_Sensorbox_center_Lidar_32_material">
        <color rgba="0.2 0.4 0.9 0.2" />
      </material>
    </visual>
    <collision>
      <geometry>
        <box size="0.05 0.05 0.05" />
      </geometry>
    </collision>
  </link>
  <link name="Sensorbox_center_Lidar_32">
    <inertial>
      <origin rpy="0 0 0" xyz="0 0 0" />
      <mass value="100" />
      <inertia ixx="4.7466666666666664E-05" ixy="0" ixz="0" iyy="0.0004016333333333333" iyz="0" izz="0.00038083333333333323" />
    </inertial>
    <collision>
      <geometry>
        <cylinder length="1" radius="1" />
      </geometry>
    </collision>
  </link>
  <link name="Controller">
    <inertial>
      <origin rpy="0 0 0" xyz="0 0 0" />
      <mass value="5" />
      <inertia ixx="4.166666666666667E-06" ixy="0" ixz="0" iyy="5.666666666666668E-06" iyz="0" izz="6.8333333333333345E-06" />
    </inertial>
    <visual>
      <geometry>
        <box size="0.1 0.08 0.06" />
      </geometry>
      <material name="Controller_material">
        <color rgba="0.2 0.7 0.7 0.2" />
      </material>
    </visual>
    <collision>
      <geometry>
        <box size="0.1 0.08 0.06" />
      </geometry>
    </collision>
  </link>
  <link name="Controller_sb_center_cont">
    <inertial>
      <origin rpy="0 0 0" xyz="0 0 0" />
      <mass value="100" />
      <inertia ixx="4.7466666666666664E-05" ixy="0" ixz="0" iyy="0.0004016333333333333" iyz="0" izz="0.00038083333333333323" />
    </inertial>
    <visual>
      <geometry>
        <mesh filename="[local-path]\source\repos\LCAMP\Daten\DHBW CAD-Data\SensorSystems\STL-Step-Files\Sensorbox_small_arduino_64.STL" scale="0.001 0.001 0.001" />
      </geometry>
      <material name="Controller_sb_center_cont_material">
        <color rgba="0.5019607843137255 0.5019607843137255 0.5019607843137255 1" />
      </material>
    </visual>
    <collision>
      <geometry>
        <mesh filename="[local-path]\source\repos\LCAMP\Daten\DHBW CAD-Data\SensorSystems\STL-Step-Files\Sensorbox_small_arduino_64.STL" scale="0.001 0.001 0.001" />
      </geometry>
    </collision>
  </link>
  <link name="l_Controller_Lidar_16">
    <inertial>
      <origin rpy="0 0 0" xyz="0 0 0" />
      <mass value="1" />
      <inertia ixx="4.166666666666667E-07" ixy="0" ixz="0" iyy="4.166666666666667E-07" iyz="0" izz="4.166666666666667E-07" />
    </inertial>
    <visual>
      <geometry>
        <box size="0.05 0.05 0.05" />
      </geometry>
      <material name="l_Controller_Lidar_16_material">
        <color rgba="0.2 0.4 0.9 0.2" />
      </material>
    </visual>
    <collision>
      <geometry>
        <box size="0.05 0.05 0.05" />
      </geometry>
    </collision>
  </link>
  <link name="Controller_Lidar_16">
    <inertial>
      <origin rpy="0 0 0" xyz="0 0 0" />
      <mass value="100" />
      <inertia ixx="4.7466666666666664E-05" ixy="0" ixz="0" iyy="0.0004016333333333333" iyz="0" izz="0.00038083333333333323" />
    </inertial>
    <collision>
      <geometry>
        <cylinder length="1" radius="1" />
      </geometry>
    </collision>
  </link>
  <link name="l_Controller_LED_Light_32">
    <inertial>
      <origin rpy="0 0 0" xyz="0 0 0" />
      <mass value="1" />
      <inertia ixx="4.166666666666667E-07" ixy="0" ixz="0" iyy="4.166666666666667E-07" iyz="0" izz="4.166666666666667E-07" />
    </inertial>
    <visual>
      <geometry>
        <box size="0.05 0.05 0.05" />
      </geometry>
      <material name="l_Controller_LED_Light_32_material">
        <color rgba="0.2 0.4 0.9 0.2" />
      </material>
    </visual>
    <collision>
      <geometry>
        <box size="0.05 0.05 0.05" />
      </geometry>
    </collision>
  </link>
  <link name="Controller_LED_Light_32">
    <inertial>
      <origin rpy="0 0 0" xyz="0 0 0" />
      <mass value="100" />
      <inertia ixx="4.7466666666666664E-05" ixy="0" ixz="0" iyy="0.0004016333333333333" iyz="0" izz="0.00038083333333333323" />
    </inertial>
    <visual name="Base">
      <origin rpy="0 0 0" xyz="0 0 0" />
      <geometry>
        <mesh filename="[local-path]\source\repos\LCAMP\Daten\DHBW CAD-Data\SensorSystems\STL-Step-Files\SensorBase.STL" scale="0.001 0.001 0.001" />
      </geometry>
      <material name="Base_material">
        <color rgba="0.5019607843137255 0.5019607843137255 0.5019607843137255 1" />
      </material>
    </visual>
    <visual name="sensor PCB">
      <origin rpy="0 0 0" xyz="0 0 0" />
      <geometry>
        <box size="0.01 0.01 0.01" />
      </geometry>
      <material name="sensor PCB_material">
        <color rgba="0.5019607843137255 0.5019607843137255 0.5019607843137255 1" />
      </material>
    </visual>
    <visual name="Top">
      <origin rpy="0 0 0" xyz="0 0 0" />
      <geometry>
        <box size="0.01 0.01 0.01" />
      </geometry>
      <material name="Top_material">
        <color rgba="0.5019607843137255 0.5019607843137255 0.5019607843137255 1" />
      </material>
    </visual>
    <collision>
      <geometry>
        <cylinder length="1" radius="1" />
      </geometry>
    </collision>
  </link>
  <link name="MainFrame">
    <inertial>
      <origin rpy="0 0 0" xyz="0 0 0" />
      <mass value="5" />
      <inertia ixx="4.166666666666667E-06" ixy="0" ixz="0" iyy="5.666666666666668E-06" iyz="0" izz="6.8333333333333345E-06" />
    </inertial>
    <visual>
      <geometry>
        <box size="0.1 0.08 0.06" />
      </geometry>
      <material name="MainFrame_material">
        <color rgba="0.2 0.7 0.7 0.2" />
      </material>
    </visual>
    <collision>
      <geometry>
        <box size="0.1 0.08 0.06" />
      </geometry>
    </collision>
  </link>
  <link name="l_MainFrame_Center_Plate_Alu_0">
    <inertial>
      <origin rpy="0 0 0" xyz="0 0 0" />
      <mass value="1" />
      <inertia ixx="4.166666666666667E-07" ixy="0" ixz="0" iyy="4.166666666666667E-07" iyz="0" izz="4.166666666666667E-07" />
    </inertial>
    <visual>
      <geometry>
        <box size="0.05 0.05 0.05" />
      </geometry>
      <material name="l_MainFrame_Center_Plate_Alu_0_material">
        <color rgba="0.2 0.4 0.9 0.2" />
      </material>
    </visual>
    <collision>
      <geometry>
        <box size="0.05 0.05 0.05" />
      </geometry>
    </collision>
  </link>
  <link name="MainFrame_Center_Plate_Alu_0">
    <inertial>
      <origin rpy="0 0 0" xyz="0 0 0" />
      <mass value="100" />
      <inertia ixx="4.7466666666666664E-05" ixy="0" ixz="0" iyy="0.0004016333333333333" iyz="0" izz="0.00038083333333333323" />
    </inertial>
    <collision>
      <geometry>
        <cylinder length="1" radius="1" />
      </geometry>
    </collision>
  </link>
  <link name="l_MainFrame_Base_Plate_pexi_0">
    <inertial>
      <origin rpy="0 0 0" xyz="0 0 0" />
      <mass value="1" />
      <inertia ixx="4.166666666666667E-07" ixy="0" ixz="0" iyy="4.166666666666667E-07" iyz="0" izz="4.166666666666667E-07" />
    </inertial>
    <visual>
      <geometry>
        <box size="0.05 0.05 0.05" />
      </geometry>
      <material name="l_MainFrame_Base_Plate_pexi_0_material">
        <color rgba="0.2 0.4 0.9 0.2" />
      </material>
    </visual>
    <collision>
      <geometry>
        <box size="0.05 0.05 0.05" />
      </geometry>
    </collision>
  </link>
  <link name="MainFrame_Base_Plate_pexi_0">
    <inertial>
      <origin rpy="0 0 0" xyz="0 0 0" />
      <mass value="100" />
      <inertia ixx="4.7466666666666664E-05" ixy="0" ixz="0" iyy="0.0004016333333333333" iyz="0" izz="0.00038083333333333323" />
    </inertial>
    <collision>
      <geometry>
        <cylinder length="1" radius="1" />
      </geometry>
    </collision>
  </link>
  <joint name="bjoint_drive_rl" type="fixed">
    <origin rpy="0 0 0" xyz="-0.108 0.07560000000000001 -0.012960000000000001" />
    <parent link="center" />
    <child link="drive_rl" />
    <axis xyz="0 0 1" />
    <dynamics damping="0.1" friction="0.1" />
  </joint>
  <joint name="joint_asm_drive_rl_Stepper-Drive_0" type="fixed">
    <origin rpy="0 0 0" xyz="0 0 0" />
    <parent link="l_drive_rl_Stepper-Drive_0" />
    <child link="drive_rl_Stepper-Drive_0" />
    <axis xyz="0 0 1" />
    <dynamics damping="0.1" friction="0.1" />
  </joint>
  <joint name="joint_sub_l_drive_rl_Stepper-Drive_0" type="fixed">
    <origin rpy="0 0 0" xyz="0 0 -0.0216" />
    <parent link="drive_rl" />
    <child link="l_drive_rl_Stepper-Drive_0" />
    <axis xyz="0 0 1" />
    <dynamics damping="0.1" friction="0.1" />
  </joint>
  <joint name="joint_wheel_drive_rl" type="continuous">
    <origin rpy="1.5707963267948966 0 0" xyz="0 0.0216 0" />
    <parent link="drive_rl" />
    <child link="jdrive_rl" />
    <axis xyz="0 0 1" />
    <dynamics damping="0.1" friction="0.1" />
  </joint>
  <joint name="joint_drive_rl_Regular-Wheel" type="fixed">
    <origin rpy="0 3.141592653589793 0" xyz="0 0 0.012" />
    <parent link="jdrive_rl" />
    <child link="drive_rl_Regular-Wheel" />
    <axis xyz="0 0 1" />
    <dynamics damping="0.1" friction="0.1" />
  </joint>
  <joint name="bjoint_drive_rr" type="fixed">
    <origin rpy="0 0 3.141592653589793" xyz="-0.108 -0.07560000000000001 -0.012960000000000001" />
    <parent link="center" />
    <child link="drive_rr" />
    <axis xyz="0 0 1" />
    <dynamics damping="0.1" friction="0.1" />
  </joint>
  <joint name="joint_asm_drive_rr_Stepper-Drive_1" type="fixed">
    <origin rpy="0 0 0" xyz="0 0 0" />
    <parent link="l_drive_rr_Stepper-Drive_1" />
    <child link="drive_rr_Stepper-Drive_1" />
    <axis xyz="0 0 1" />
    <dynamics damping="0.1" friction="0.1" />
  </joint>
  <joint name="joint_sub_l_drive_rr_Stepper-Drive_1" type="fixed">
    <origin rpy="0 0 0" xyz="0 0 -0.0216" />
    <parent link="drive_rr" />
    <child link="l_drive_rr_Stepper-Drive_1" />
    <axis xyz="0 0 1" />
    <dynamics damping="0.1" friction="0.1" />
  </joint>
  <joint name="joint_wheel_drive_rr" type="continuous">
    <origin rpy="-1.5707963267948966 0 0" xyz="0 0.0216 0" />
    <parent link="drive_rr" />
    <child link="jdrive_rr" />
    <axis xyz="0 0 1" />
    <dynamics damping="0.1" friction="0.1" />
  </joint>
  <joint name="joint_drive_rr_Regular-Wheel" type="fixed">
    <origin rpy="0 3.141592653589793 0" xyz="0 0 0.012" />
    <parent link="jdrive_rr" />
    <child link="drive_rr_Regular-Wheel" />
    <axis xyz="0 0 1" />
    <dynamics damping="0.1" friction="0.1" />
  </joint>
  <joint name="bjoint_drive_fl" type="fixed">
    <origin rpy="0 0 0" xyz="0.108 0.07560000000000001 -0.012960000000000001" />
    <parent link="center" />
    <child link="drive_fl" />
    <axis xyz="0 0 1" />
    <dynamics damping="0.1" friction="0.1" />
  </joint>
  <joint name="joint_asm_drive_fl_Stepper-Drive_2" type="fixed">
    <origin rpy="0 0 0" xyz="0 0 0" />
    <parent link="l_drive_fl_Stepper-Drive_2" />
    <child link="drive_fl_Stepper-Drive_2" />
    <axis xyz="0 0 1" />
    <dynamics damping="0.1" friction="0.1" />
  </joint>
  <joint name="joint_sub_l_drive_fl_Stepper-Drive_2" type="fixed">
    <origin rpy="0 0 0" xyz="0 0 -0.0216" />
    <parent link="drive_fl" />
    <child link="l_drive_fl_Stepper-Drive_2" />
    <axis xyz="0 0 1" />
    <dynamics damping="0.1" friction="0.1" />
  </joint>
  <joint name="joint_wheel_drive_fl" type="continuous">
    <origin rpy="1.5707963267948966 0 0" xyz="0 0.0216 0" />
    <parent link="drive_fl" />
    <child link="jdrive_fl" />
    <axis xyz="0 0 1" />
    <dynamics damping="0.1" friction="0.1" />
  </joint>
  <joint name="joint_drive_fl_Regular-Wheel" type="fixed">
    <origin rpy="0 3.141592653589793 0" xyz="0 0 0.012" />
    <parent link="jdrive_fl" />
    <child link="drive_fl_Regular-Wheel" />
    <axis xyz="0 0 1" />
    <dynamics damping="0.1" friction="0.1" />
  </joint>
  <joint name="bjoint_drive_fr" type="fixed">
    <origin rpy="0 0 3.141592653589793" xyz="0.108 -0.07560000000000001 -0.012960000000000001" />
    <parent link="center" />
    <child link="drive_fr" />
    <axis xyz="0 0 1" />
    <dynamics damping="0.1" friction="0.1" />
  </joint>
  <joint name="joint_asm_drive_fr_Stepper-Drive_3" type="fixed">
    <origin rpy="0 0 0" xyz="0 0 0" />
    <parent link="l_drive_fr_Stepper-Drive_3" />
    <child link="drive_fr_Stepper-Drive_3" />
    <axis xyz="0 0 1" />
    <dynamics damping="0.1" friction="0.1" />
  </joint>
  <joint name="joint_sub_l_drive_fr_Stepper-Drive_3" type="fixed">
    <origin rpy="0 0 0" xyz="0 0 -0.0216" />
    <parent link="drive_fr" />
    <child link="l_drive_fr_Stepper-Drive_3" />
    <axis xyz="0 0 1" />
    <dynamics damping="0.1" friction="0.1" />
  </joint>
  <joint name="joint_wheel_drive_fr" type="continuous">
    <origin rpy="-1.5707963267948966 0 0" xyz="0 0.0216 0" />
    <parent link="drive_fr" />
    <child link="jdrive_fr" />
    <axis xyz="0 0 1" />
    <dynamics damping="0.1" friction="0.1" />
  </joint>
  <joint name="joint_drive_fr_Regular-Wheel" type="fixed">
    <origin rpy="0 3.141592653589793 0" xyz="0 0 0.012" />
    <parent link="jdrive_fr" />
    <child link="drive_fr_Regular-Wheel" />
    <axis xyz="0 0 1" />
    <dynamics damping="0.1" friction="0.1" />
  </joint>
  <joint name="bjoint_Sensorbox_front" type="fixed">
    <origin rpy="-1.5707963267948966 -1.5707963267948966 0" xyz="0.162 0 0" />
    <parent link="center" />
    <child link="Sensorbox_front" />
    <axis xyz="0 0 1" />
    <dynamics damping="0.1" friction="0.1" />
  </joint>
  <joint name="link_Sensorbox_front_sbFront" type="fixed">
    <origin rpy="0 0 0" xyz="-0.03456 0 0" />
    <parent link="Sensorbox_front" />
    <child link="Sensorbox_front_sbFront" />
    <axis xyz="0 0 1" />
    <dynamics damping="0.1" friction="0.1" />
  </joint>
  <joint name="link_Sensorbox_front_Connetion_Pins" type="fixed">
    <origin rpy="0 0 0" xyz="0 0 0" />
    <parent link="Sensorbox_front" />
    <child link="Sensorbox_front_Connetion_Pins" />
    <axis xyz="0 0 1" />
    <dynamics damping="0.1" friction="0.1" />
  </joint>
  <joint name="joint_asm_Sensorbox_front_LED_Light_16" type="fixed">
    <origin rpy="0 0 0" xyz="0 0 0" />
    <parent link="l_Sensorbox_front_LED_Light_16" />
    <child link="Sensorbox_front_LED_Light_16" />
    <axis xyz="0 0 1" />
    <dynamics damping="0.1" friction="0.1" />
  </joint>
  <joint name="joint_sub_l_Sensorbox_front_LED_Light_16" type="fixed">
    <origin rpy="-1.3089969389957474 0 0" xyz="0 0.0162 0.0702" />
    <parent link="Sensorbox_front" />
    <child link="l_Sensorbox_front_LED_Light_16" />
    <axis xyz="0 0 1" />
    <dynamics damping="0.1" friction="0.1" />
  </joint>
  <joint name="joint_asm_Sensorbox_front_LED_Light_64" type="fixed">
    <origin rpy="0 0 0" xyz="0 0 0" />
    <parent link="l_Sensorbox_front_LED_Light_64" />
    <child link="Sensorbox_front_LED_Light_64" />
    <axis xyz="0 0 1" />
    <dynamics damping="0.1" friction="0.1" />
  </joint>
  <joint name="joint_sub_l_Sensorbox_front_LED_Light_64" type="fixed">
    <origin rpy="-1.8325957145940457 0 0" xyz="0 0.0162 -0.0702" />
    <parent link="Sensorbox_front" />
    <child link="l_Sensorbox_front_LED_Light_64" />
    <axis xyz="0 0 1" />
    <dynamics damping="0.1" friction="0.1" />
  </joint>
  <joint name="bjoint_Sensorbox_rear" type="fixed">
    <origin rpy="1.5707963267948966 -1.5707963267948966 0" xyz="-0.162 0 0" />
    <parent link="center" />
    <child link="Sensorbox_rear" />
    <axis xyz="0 0 1" />
    <dynamics damping="0.1" friction="0.1" />
  </joint>
  <joint name="link_Sensorbox_rear_sbRear" type="fixed">
    <origin rpy="0 0 0" xyz="-0.03456 0 0" />
    <parent link="Sensorbox_rear" />
    <child link="Sensorbox_rear_sbRear" />
    <axis xyz="0 0 1" />
    <dynamics damping="0.1" friction="0.1" />
  </joint>
  <joint name="link_Sensorbox_rear_Connetion_Pinns" type="fixed">
    <origin rpy="0 0 0" xyz="0 0 0" />
    <parent link="Sensorbox_rear" />
    <child link="Sensorbox_rear_Connetion_Pinns" />
    <axis xyz="0 0 1" />
    <dynamics damping="0.1" friction="0.1" />
  </joint>
  <joint name="joint_asm_Sensorbox_rear_Lidar_16" type="fixed">
    <origin rpy="0 0 0" xyz="0 0 0" />
    <parent link="l_Sensorbox_rear_Lidar_16" />
    <child link="Sensorbox_rear_Lidar_16" />
    <axis xyz="0 0 1" />
    <dynamics damping="0.1" friction="0.1" />
  </joint>
  <joint name="joint_sub_l_Sensorbox_rear_Lidar_16" type="fixed">
    <origin rpy="-1.3089969389957474 0 0" xyz="0 0.0162 0.0702" />
    <parent link="Sensorbox_rear" />
    <child link="l_Sensorbox_rear_Lidar_16" />
    <axis xyz="0 0 1" />
    <dynamics damping="0.1" friction="0.1" />
  </joint>
  <joint name="joint_asm_Sensorbox_rear_LED_Light_32" type="fixed">
    <origin rpy="0 0 0" xyz="0 0 0" />
    <parent link="l_Sensorbox_rear_LED_Light_32" />
    <child link="Sensorbox_rear_LED_Light_32" />
    <axis xyz="0 0 1" />
    <dynamics damping="0.1" friction="0.1" />
  </joint>
  <joint name="joint_sub_l_Sensorbox_rear_LED_Light_32" type="fixed">
    <origin rpy="-1.5707963267948966 0 0" xyz="0 0.0216 0.024300000000000002" />
    <parent link="Sensorbox_rear" />
    <child link="l_Sensorbox_rear_LED_Light_32" />
    <axis xyz="0 0 1" />
    <dynamics damping="0.1" friction="0.1" />
  </joint>
  <joint name="bjoint_Sensorbox_center" type="fixed">
    <origin rpy="0 0 0" xyz="0 0.07560000000000001 0" />
    <parent link="center" />
    <child link="Sensorbox_center" />
    <axis xyz="0 0 1" />
    <dynamics damping="0.1" friction="0.1" />
  </joint>
  <joint name="link_Sensorbox_center_sbCenter" type="fixed">
    <origin rpy="0 0 0" xyz="0 0 0.03456" />
    <parent link="Sensorbox_center" />
    <child link="Sensorbox_center_sbCenter" />
    <axis xyz="0 0 1" />
    <dynamics damping="0.1" friction="0.1" />
  </joint>
  <joint name="link_Sensorbox_center_Connetion_Pins" type="fixed">
    <origin rpy="0 0 0" xyz="0 0 0" />
    <parent link="Sensorbox_center" />
    <child link="Sensorbox_center_Connetion_Pins" />
    <axis xyz="0 0 1" />
    <dynamics damping="0.1" friction="0.1" />
  </joint>
  <joint name="joint_asm_Sensorbox_center_LED_Light_16" type="fixed">
    <origin rpy="0 0 0" xyz="0 0 0" />
    <parent link="l_Sensorbox_center_LED_Light_16" />
    <child link="Sensorbox_center_LED_Light_16" />
    <axis xyz="0 0 1" />
    <dynamics damping="0.1" friction="0.1" />
  </joint>
  <joint name="joint_sub_l_Sensorbox_center_LED_Light_16" type="fixed">
    <origin rpy="-1.5707963267948966 0 0" xyz="0.023220000000000005 0.027 0" />
    <parent link="Sensorbox_center" />
    <child link="l_Sensorbox_center_LED_Light_16" />
    <axis xyz="0 0 1" />
    <dynamics damping="0.1" friction="0.1" />
  </joint>
  <joint name="joint_asm_Sensorbox_center_Lidar_32" type="fixed">
    <origin rpy="0 0 0" xyz="0 0 0" />
    <parent link="l_Sensorbox_center_Lidar_32" />
    <child link="Sensorbox_center_Lidar_32" />
    <axis xyz="0 0 1" />
    <dynamics damping="0.1" friction="0.1" />
  </joint>
  <joint name="joint_sub_l_Sensorbox_center_Lidar_32" type="fixed">
    <origin rpy="-1.5707963267948966 0 0" xyz="-0.023220000000000005 0.027 0" />
    <parent link="Sensorbox_center" />
    <child link="l_Sensorbox_center_Lidar_32" />
    <axis xyz="0 0 1" />
    <dynamics damping="0.1" friction="0.1" />
  </joint>
  <joint name="bjoint_Controller" type="fixed">
    <origin rpy="0 0 3.141592653589793" xyz="0 -0.07560000000000001 0" />
    <parent link="center" />
    <child link="Controller" />
    <axis xyz="0 0 1" />
    <dynamics damping="0.1" friction="0.1" />
  </joint>
  <joint name="link_Controller_sb_center_cont" type="fixed">
    <origin rpy="0 0 0" xyz="0 0 0.03456" />
    <parent link="Controller" />
    <child link="Controller_sb_center_cont" />
    <axis xyz="0 0 1" />
    <dynamics damping="0.1" friction="0.1" />
  </joint>
  <joint name="joint_asm_Controller_Lidar_16" type="fixed">
    <origin rpy="0 0 0" xyz="0 0 0" />
    <parent link="l_Controller_Lidar_16" />
    <child link="Controller_Lidar_16" />
    <axis xyz="0 0 1" />
    <dynamics damping="0.1" friction="0.1" />
  </joint>
  <joint name="joint_sub_l_Controller_Lidar_16" type="fixed">
    <origin rpy="-1.5707963267948966 0 0" xyz="0.023220000000000005 0.027 0" />
    <parent link="Controller" />
    <child link="l_Controller_Lidar_16" />
    <axis xyz="0 0 1" />
    <dynamics damping="0.1" friction="0.1" />
  </joint>
  <joint name="joint_asm_Controller_LED_Light_32" type="fixed">
    <origin rpy="0 0 0" xyz="0 0 0" />
    <parent link="l_Controller_LED_Light_32" />
    <child link="Controller_LED_Light_32" />
    <axis xyz="0 0 1" />
    <dynamics damping="0.1" friction="0.1" />
  </joint>
  <joint name="joint_sub_l_Controller_LED_Light_32" type="fixed">
    <origin rpy="1.5707963267948966 0 0" xyz="-0.023220000000000005 0.027 0" />
    <parent link="Controller" />
    <child link="l_Controller_LED_Light_32" />
    <axis xyz="0 0 1" />
    <dynamics damping="0.1" friction="0.1" />
  </joint>
  <joint name="bjoint_MainFrame" type="fixed">
    <origin rpy="0 0 0" xyz="0 0 0" />
    <parent link="center" />
    <child link="MainFrame" />
    <axis xyz="0 0 1" />
    <dynamics damping="0.1" friction="0.1" />
  </joint>
  <joint name="joint_asm_MainFrame_Center_Plate_Alu_0" type="fixed">
    <origin rpy="0 0 0" xyz="0 0 0" />
    <parent link="l_MainFrame_Center_Plate_Alu_0" />
    <child link="MainFrame_Center_Plate_Alu_0" />
    <axis xyz="0 0 1" />
    <dynamics damping="0.1" friction="0.1" />
  </joint>
  <joint name="joint_sub_l_MainFrame_Center_Plate_Alu_0" type="fixed">
    <origin rpy="0 0 0" xyz="0 0 0" />
    <parent link="MainFrame" />
    <child link="l_MainFrame_Center_Plate_Alu_0" />
    <axis xyz="0 0 1" />
    <dynamics damping="0.1" friction="0.1" />
  </joint>
  <joint name="joint_asm_MainFrame_Base_Plate_pexi_0" type="fixed">
    <origin rpy="0 0 0" xyz="0 0 0" />
    <parent link="l_MainFrame_Base_Plate_pexi_0" />
    <child link="MainFrame_Base_Plate_pexi_0" />
    <axis xyz="0 0 1" />
    <dynamics damping="0.1" friction="0.1" />
  </joint>
  <joint name="joint_sub_l_MainFrame_Base_Plate_pexi_0" type="fixed">
    <origin rpy="0 0 0" xyz="0 0 0" />
    <parent link="MainFrame" />
    <child link="l_MainFrame_Base_Plate_pexi_0" />
    <axis xyz="0 0 1" />
    <dynamics damping="0.1" friction="0.1" />
  </joint>
</robot>
